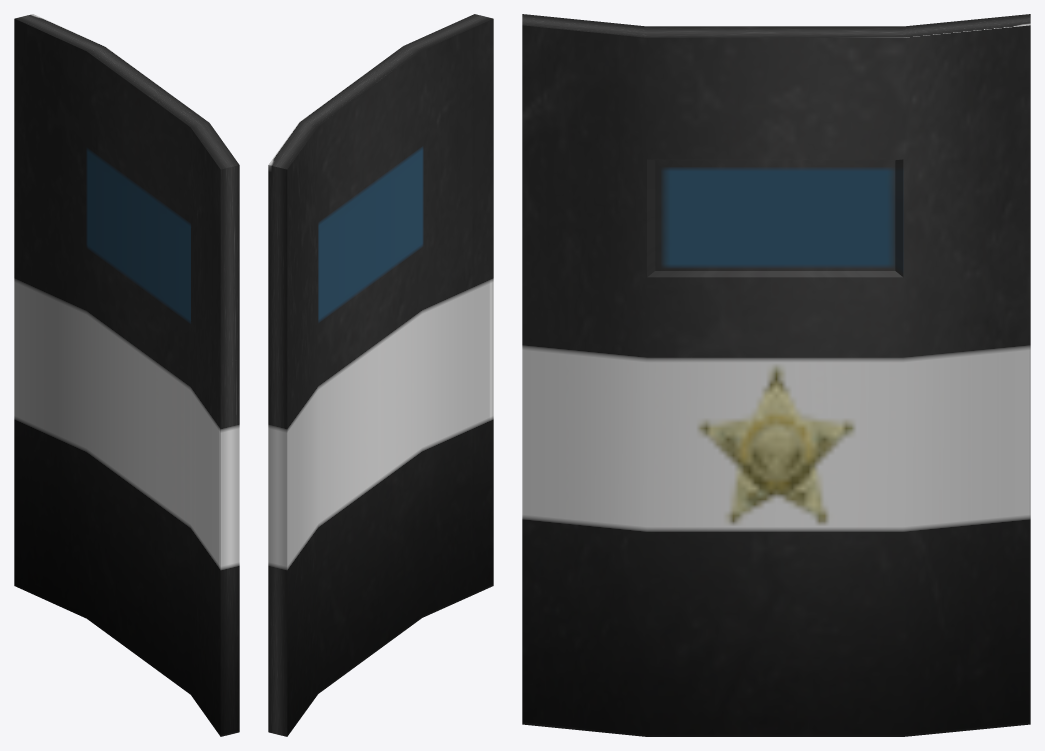
Rendered from shield.fbx.
3 views of the same model, side by side, from view 1: azimuth 30°, elevation 25°; view 2: azimuth 150°, elevation 25°; view 3: azimuth 270°, elevation 25° (orthographic). The views are drawn at different scales.
Parts seen in each view (by area): view 1: pCube1; view 2: pCube1; view 3: pCube1.
Part boxes in pixels (x1,y1,x2,y2): pCube1: (14, 14, 239, 736); pCube1: (268, 14, 493, 736); pCube1: (522, 14, 1030, 736).
Bounding box in the file's own units: 0.613 × 8.39 × 5.53.
